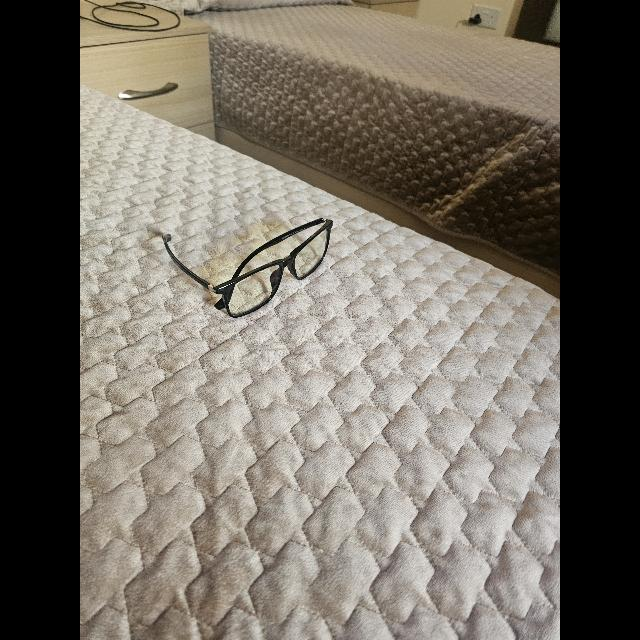glasses: (163, 218, 333, 318)
